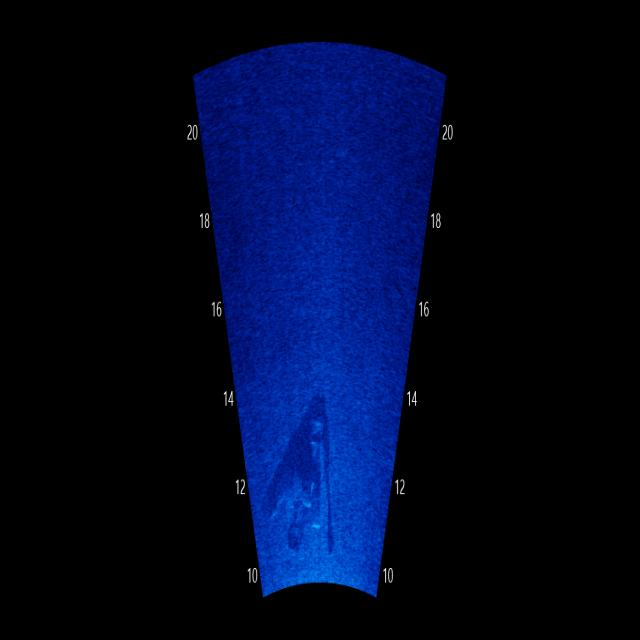triangle: (258, 327, 346, 554)
